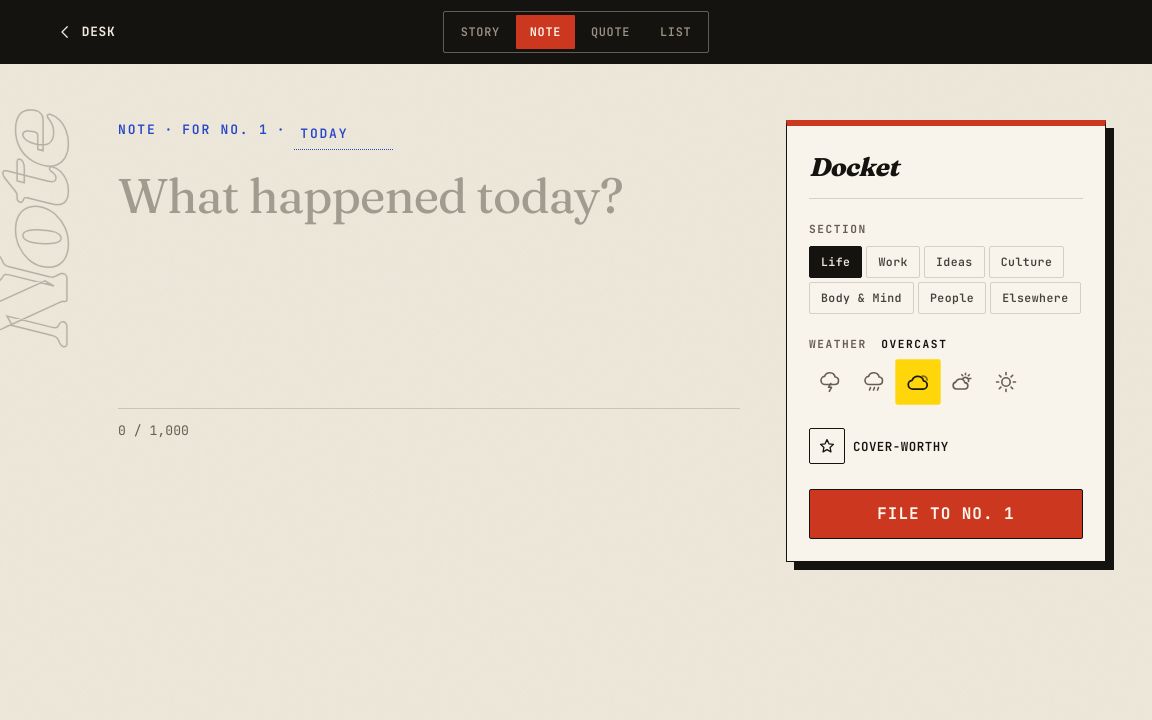
Test: app flows › files a note from the composer and shows it on the desk
The image size is (1152, 720).
Click the button "File to No. 1" at (946, 514), box [809,489,1083,539]
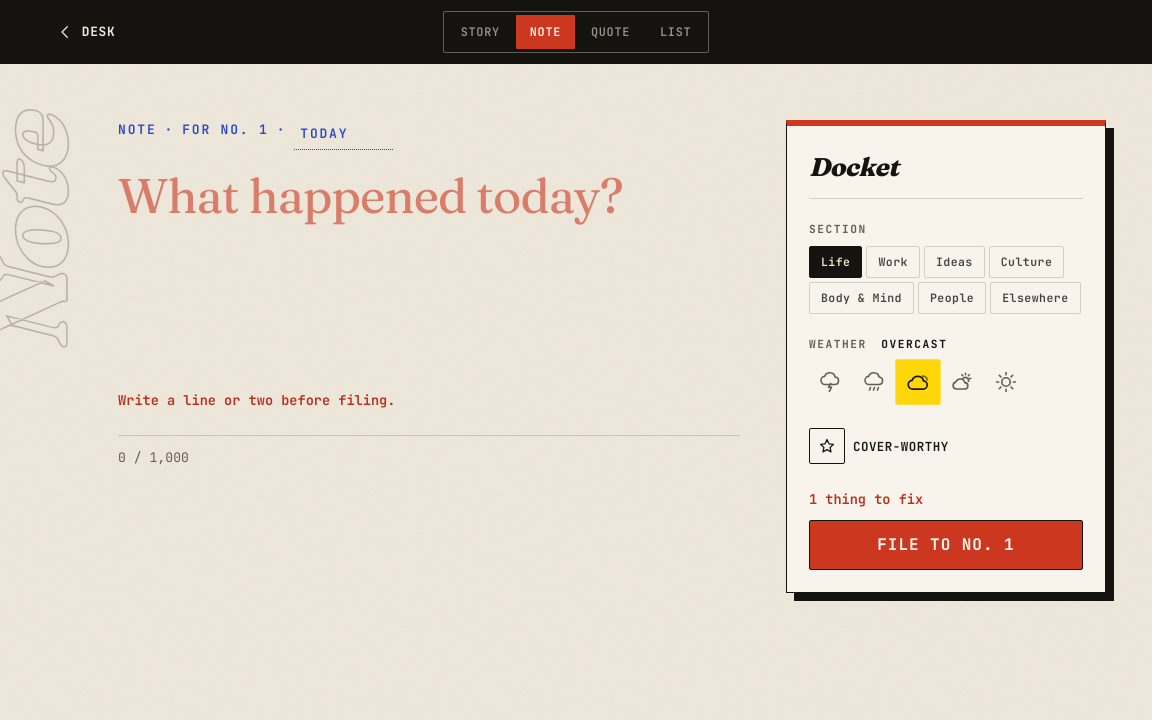
Check: the text "Write a line or two before filing." is shown, box [118,391,395,409]
Type "Saw a heron on the canal." into the text box named "Note" at (429, 276), box [118,168,740,384]
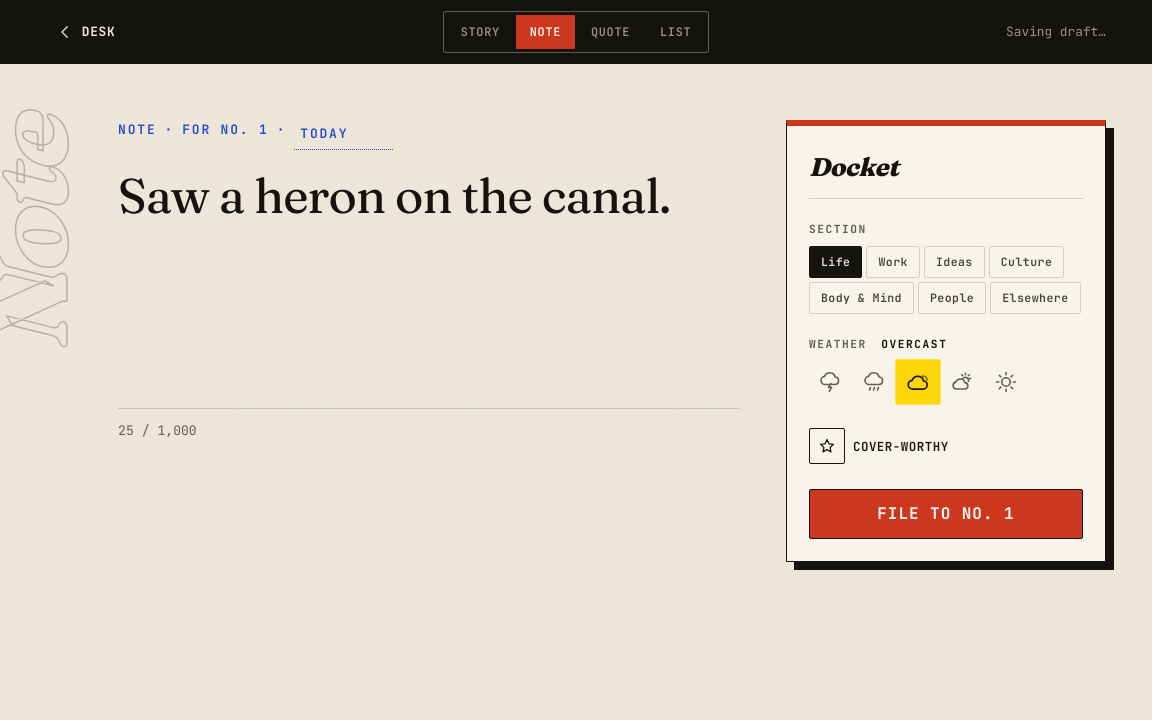
Click the radio button labelled "Work" at (893, 262), box [866,246,920,278]
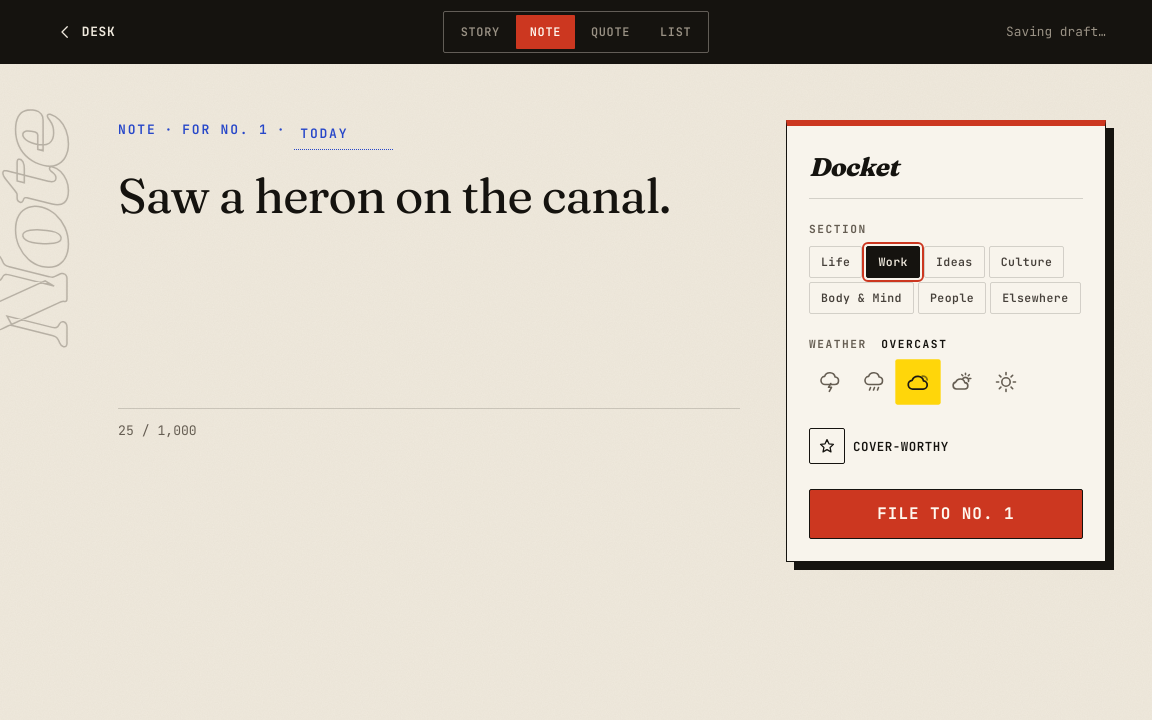
Click the button "File to No. 1" at (946, 514), box [809,489,1083,539]
(page scrolled)
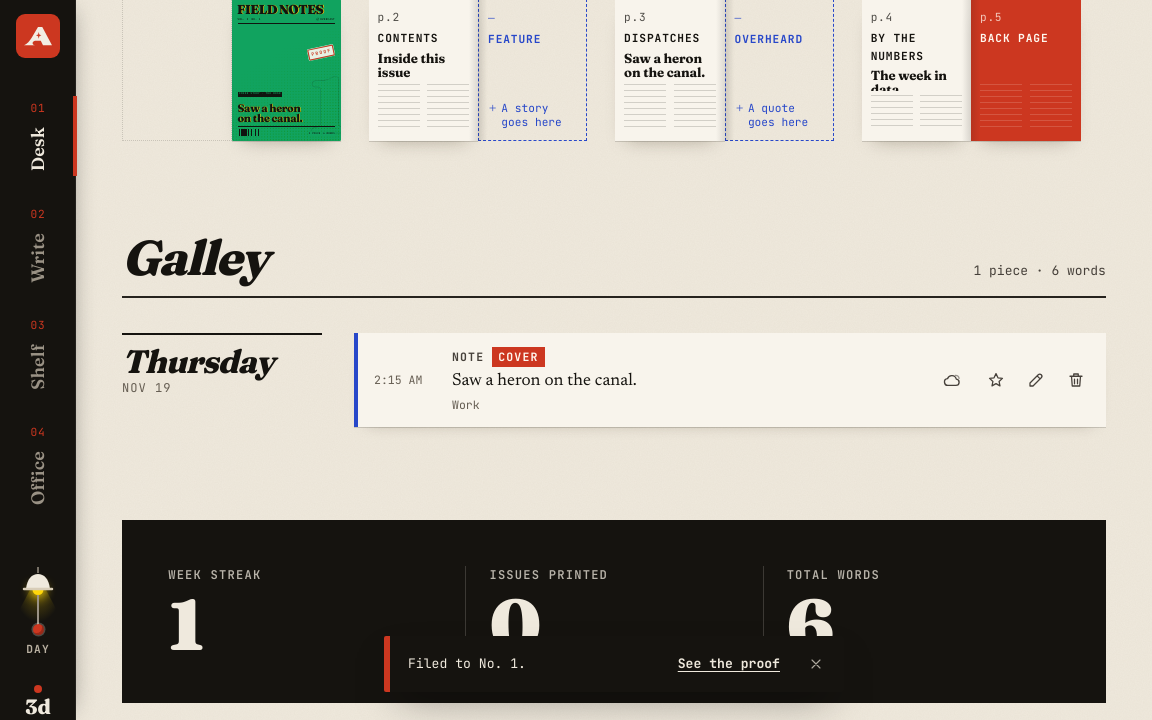
Check: the text "Filed to No. 1." is shown, box [408,655,526,672]
Check: the button named "Delete “Saw a heron on the canal.”" is shown, box [1056,360,1096,400]
